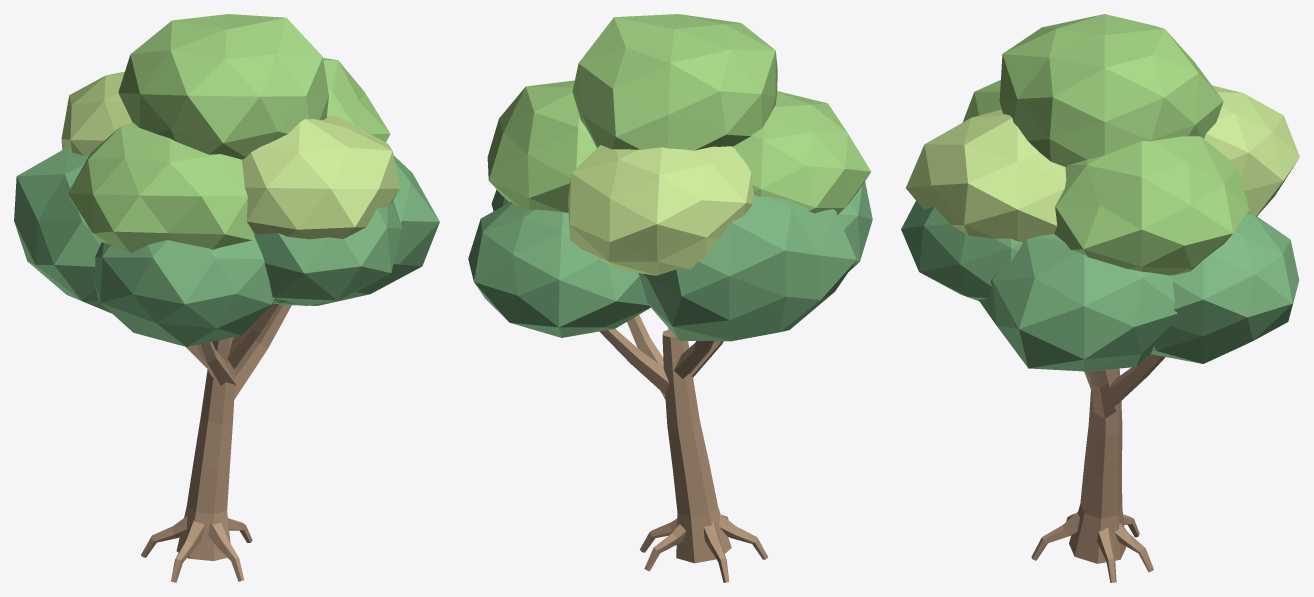
Rendered from arvore_copa_0.fbx.
3 views of the same model, side by side, from view 1: azimuth 30°, elevation 25°; view 2: azimuth 150°, elevation 25°; view 3: azimuth 270°, elevation 25° (orthographic). The views are drawn at different scales.
Visible parts, largest first — view 1: arvore_copa_0~Copa 9@leaf, arvore_copa_0~Copa 7@leaf, arvore_copa_0~Copa 3@leafdark, arvore_copa_0~Copa 8@leaflight, arvore_copa_0~Copa 2@leafdark, arvore_copa_0~Copa 4@leafdark, arvore_copa_0~Tronco@bark, arvore_copa_0~Copa 0@leafdark, arvore_copa_0~Copa 6@leaflight, arvore_copa_0~Copa 5@leaf, arvore_copa_0~Galho 0@bark, arvore_copa_0~Galho 4@bark (+4 smaller); view 2: arvore_copa_0~Copa 9@leaf, arvore_copa_0~Copa 2@leafdark, arvore_copa_0~Copa 6@leaflight, arvore_copa_0~Copa 1@leafdark, arvore_copa_0~Copa 7@leaf, arvore_copa_0~Copa 5@leaf, arvore_copa_0~Tronco@bark, arvore_copa_0~Copa 3@leafdark, arvore_copa_0~Galho 1@bark, arvore_copa_0~Galho 0@bark, arvore_copa_0~Galho 2@bark, arvore_copa_0~Raiz 2@bark (+2 smaller); view 3: arvore_copa_0~Copa 9@leaf, arvore_copa_0~Copa 5@leaf, arvore_copa_0~Copa 0@leafdark, arvore_copa_0~Copa 8@leaflight, arvore_copa_0~Copa 1@leafdark, arvore_copa_0~Copa 6@leaflight, arvore_copa_0~Copa 4@leafdark, arvore_copa_0~Tronco@bark, arvore_copa_0~Galho 1@bark, arvore_copa_0~Copa 7@leaf, arvore_copa_0~Galho 0@bark, arvore_copa_0~Raiz 4@bark (+2 smaller).
Boxes of the visible parts, left/top/right/bottom form: arvore_copa_0~Copa 9@leaf: left=118, top=14, right=328, bottom=159; arvore_copa_0~Copa 7@leaf: left=68, top=122, right=254, bottom=253; arvore_copa_0~Copa 3@leafdark: left=93, top=236, right=275, bottom=346; arvore_copa_0~Copa 8@leaflight: left=242, top=115, right=399, bottom=239; arvore_copa_0~Copa 2@leafdark: left=14, top=147, right=111, bottom=313; arvore_copa_0~Copa 4@leafdark: left=254, top=200, right=402, bottom=305; arvore_copa_0~Tronco@bark: left=176, top=337, right=235, bottom=560; arvore_copa_0~Copa 0@leafdark: left=272, top=155, right=439, bottom=305; arvore_copa_0~Copa 6@leaflight: left=61, top=71, right=132, bottom=155; arvore_copa_0~Copa 5@leaf: left=323, top=58, right=390, bottom=142; arvore_copa_0~Galho 0@bark: left=234, top=305, right=291, bottom=399; arvore_copa_0~Galho 4@bark: left=227, top=303, right=278, bottom=369; arvore_copa_0~Copa 9@leaf: left=572, top=14, right=777, bottom=150; arvore_copa_0~Copa 2@leafdark: left=638, top=195, right=856, bottom=341; arvore_copa_0~Copa 6@leaflight: left=567, top=145, right=754, bottom=275; arvore_copa_0~Copa 1@leafdark: left=468, top=202, right=650, bottom=337; arvore_copa_0~Copa 7@leaf: left=733, top=91, right=871, bottom=214; arvore_copa_0~Copa 5@leaf: left=487, top=80, right=596, bottom=212; arvore_copa_0~Tronco@bark: left=662, top=329, right=731, bottom=563; arvore_copa_0~Copa 3@leafdark: left=837, top=181, right=872, bottom=271; arvore_copa_0~Galho 1@bark: left=599, top=329, right=669, bottom=394; arvore_copa_0~Galho 0@bark: left=627, top=315, right=665, bottom=399; arvore_copa_0~Galho 2@bark: left=674, top=341, right=714, bottom=378; arvore_copa_0~Raiz 2@bark: left=703, top=520, right=729, bottom=582; arvore_copa_0~Copa 9@leaf: left=999, top=14, right=1223, bottom=166; arvore_copa_0~Copa 5@leaf: left=1054, top=136, right=1249, bottom=275; arvore_copa_0~Copa 0@leafdark: left=978, top=234, right=1177, bottom=371; arvore_copa_0~Copa 8@leaflight: left=906, top=109, right=1066, bottom=241; arvore_copa_0~Copa 1@leafdark: left=1150, top=212, right=1299, bottom=363; arvore_copa_0~Copa 6@leaflight: left=1204, top=85, right=1299, bottom=216; arvore_copa_0~Copa 4@leafdark: left=901, top=201, right=1022, bottom=300; arvore_copa_0~Tronco@bark: left=1069, top=368, right=1126, bottom=563; arvore_copa_0~Galho 1@bark: left=1109, top=354, right=1165, bottom=405; arvore_copa_0~Copa 7@leaf: left=962, top=80, right=1001, bottom=122; arvore_copa_0~Galho 0@bark: left=1090, top=370, right=1115, bottom=418; arvore_copa_0~Raiz 4@bark: left=1031, top=512, right=1079, bottom=560.
Size of the model in its own units: 7.49 by 10.49 by 7.09.
